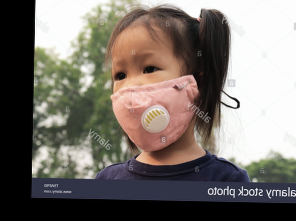with_mask: (108, 49, 198, 154)
